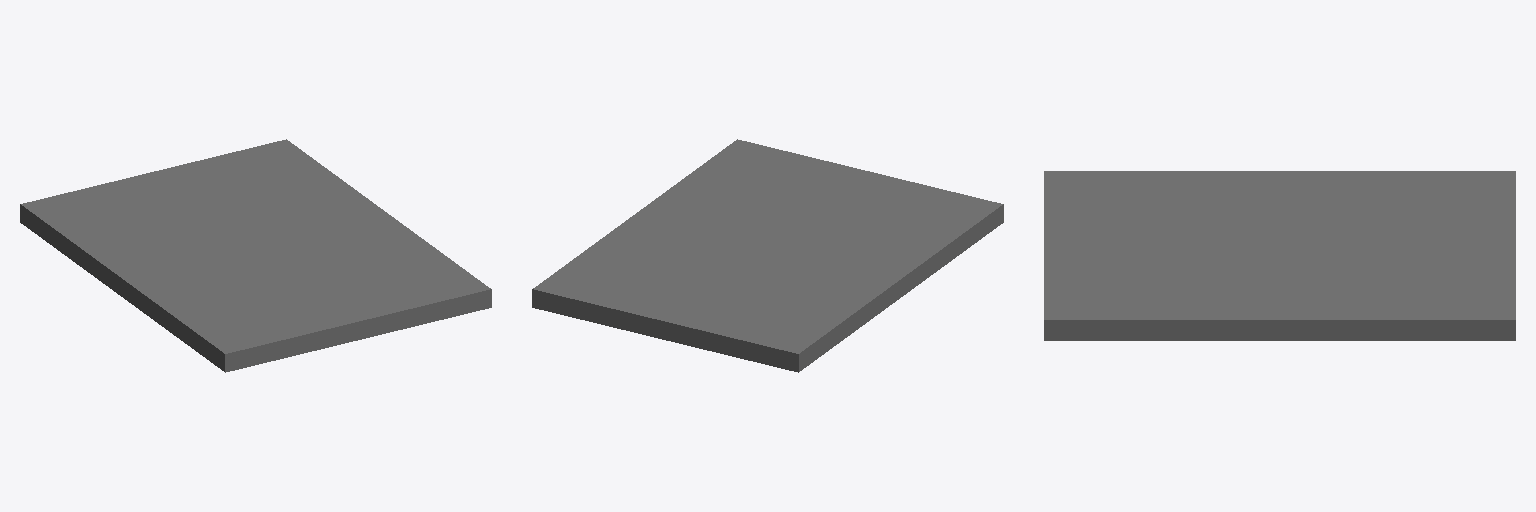
The robot description file, URDF, robot "cube_platform":
<?xml version="1.0"?>
<robot name="cube_platform">
  <link name="base">
    <visual>
      <geometry>
        <mesh filename="cube_platform.obj" scale="1 1 1"/>
      </geometry>
      <material name="gray">
        <color rgba="0.5 0.5 0.5 1.0"/>
      </material>
    </visual>
    <collision>
      <geometry>
        <mesh filename="cube_platform.obj" scale="1 1 1"/>
      </geometry>
    </collision>
    <inertial>
      <mass value="1.000"/>
      <inertia
          ixx="1.336667" ixy="0.000000" ixz="0.000000"
          iyy="0.753333" iyz="0.000000"
          izz="2.083333"/>
      <origin xyz="0.000000 0.000000 0.100000" rpy="0 0 0"/>
    </inertial>
  </link>
</robot>

--- Facts derived from the render (not from the file) ---
Views: 3 orthographic renders of the robot side by side, from view 1: azimuth 30°, elevation 25°; view 2: azimuth 150°, elevation 25°; view 3: azimuth 270°, elevation 25°.
Model cube_platform with 1 links and 0 joints (none), rooted at base, posed all joints at 0.
Visible links, largest first — view 1: base; view 2: base; view 3: base.
Link boxes in pixels (box(x1,y1,x2,y2)): base: box(20, 139, 491, 372); base: box(532, 139, 1003, 372); base: box(1044, 171, 1515, 340).
Bounding box of the posed robot: 3 × 4 × 0.2 m (x, y, z).
1 mesh visuals loaded from 1 distinct referenced files (1 OBJ).
